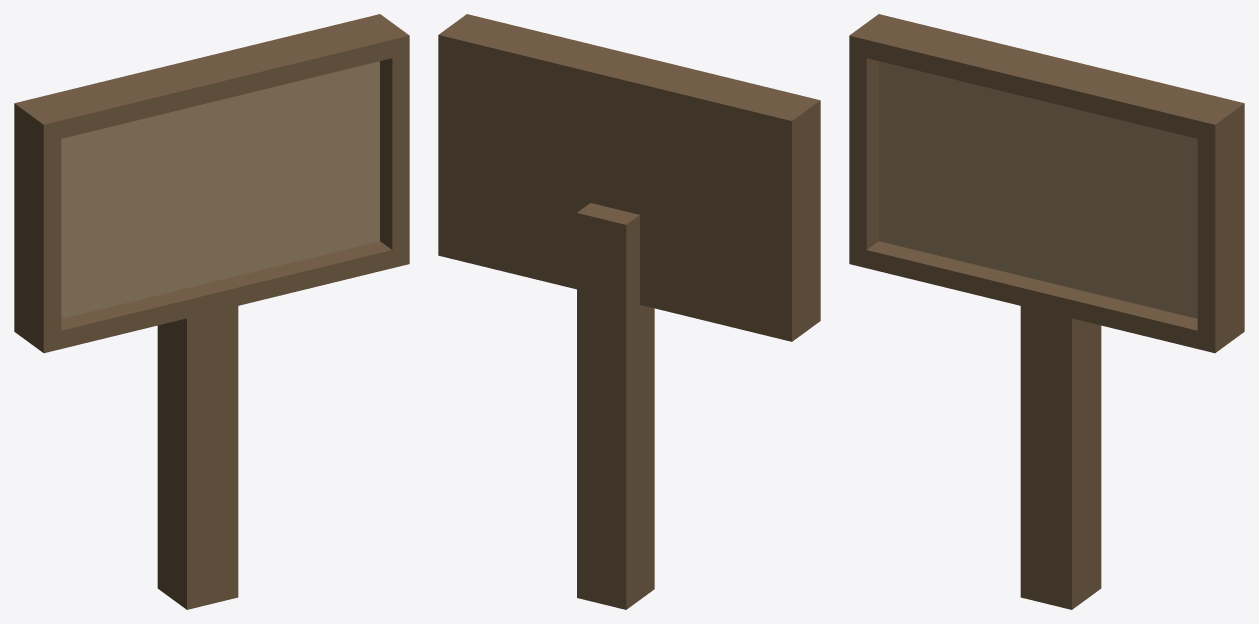
File: Sign.fbx
3 views of the same model, side by side, from view 1: azimuth 30°, elevation 25°; view 2: azimuth 150°, elevation 25°; view 3: azimuth 330°, elevation 25° (orthographic). The views are drawn at different scales.
Visible parts, largest first — view 1: Sign; view 2: Sign; view 3: Sign.
Part boxes in pixels (x1,y1,x2,y2): Sign: [14, 14, 409, 609]; Sign: [438, 14, 820, 609]; Sign: [849, 14, 1244, 609].
Size of the model in its own units: 109 by 151 by 22.46.
